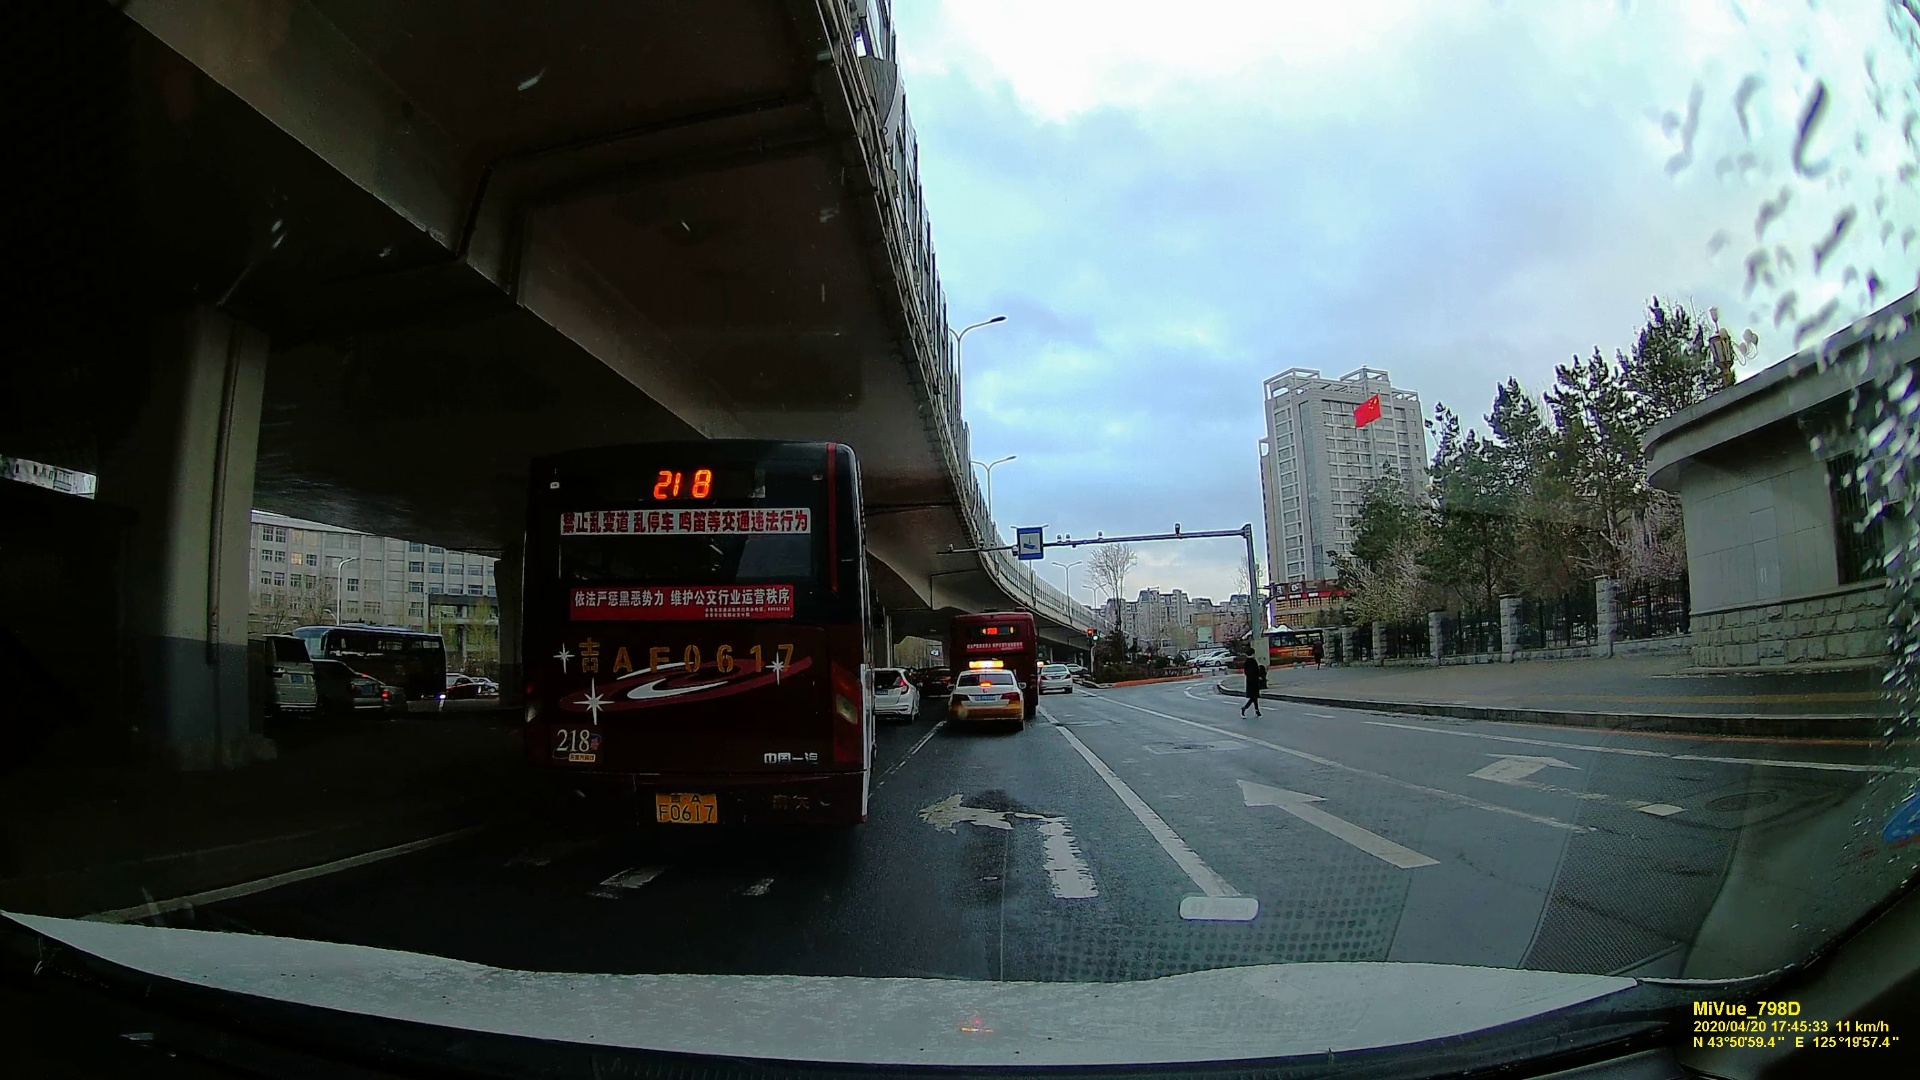bus: (520, 440, 868, 846), (944, 616, 1034, 719)
person: (1240, 646, 1264, 714), (1311, 637, 1325, 671)
traffic_sign: (1016, 528, 1040, 558)
vehicle: (944, 667, 1027, 729), (867, 666, 919, 719), (1042, 664, 1076, 693)
